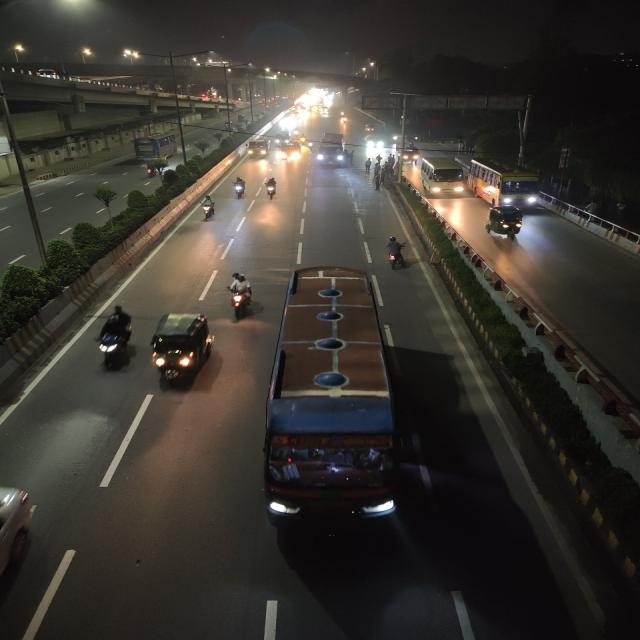bus: (261, 263, 398, 526), (469, 158, 542, 208), (416, 154, 468, 198), (130, 133, 178, 165), (312, 131, 350, 169)
cng: (146, 308, 218, 392), (482, 204, 527, 243)
motorcycle: (87, 301, 142, 376), (221, 271, 259, 322), (380, 234, 412, 271), (196, 193, 218, 224), (229, 175, 249, 201), (261, 175, 280, 201)
pedestrian: (372, 173, 385, 191), (363, 158, 373, 174), (366, 158, 376, 172), (385, 156, 394, 171), (376, 154, 384, 166)
pickup_van: (246, 137, 271, 161), (277, 142, 304, 160), (400, 147, 420, 165)
